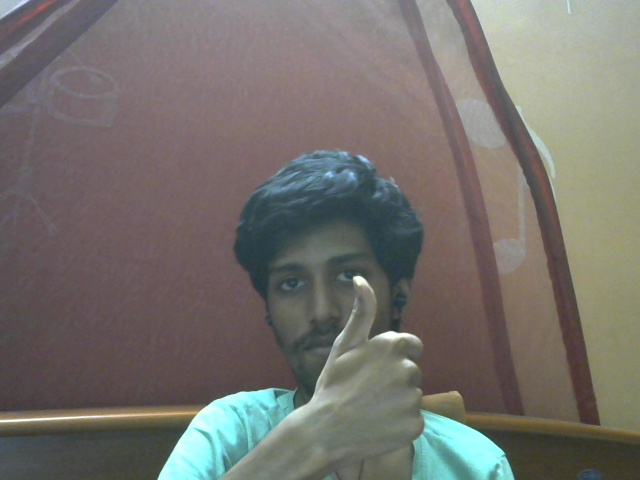ThumbsUp: (315, 275, 424, 465)
